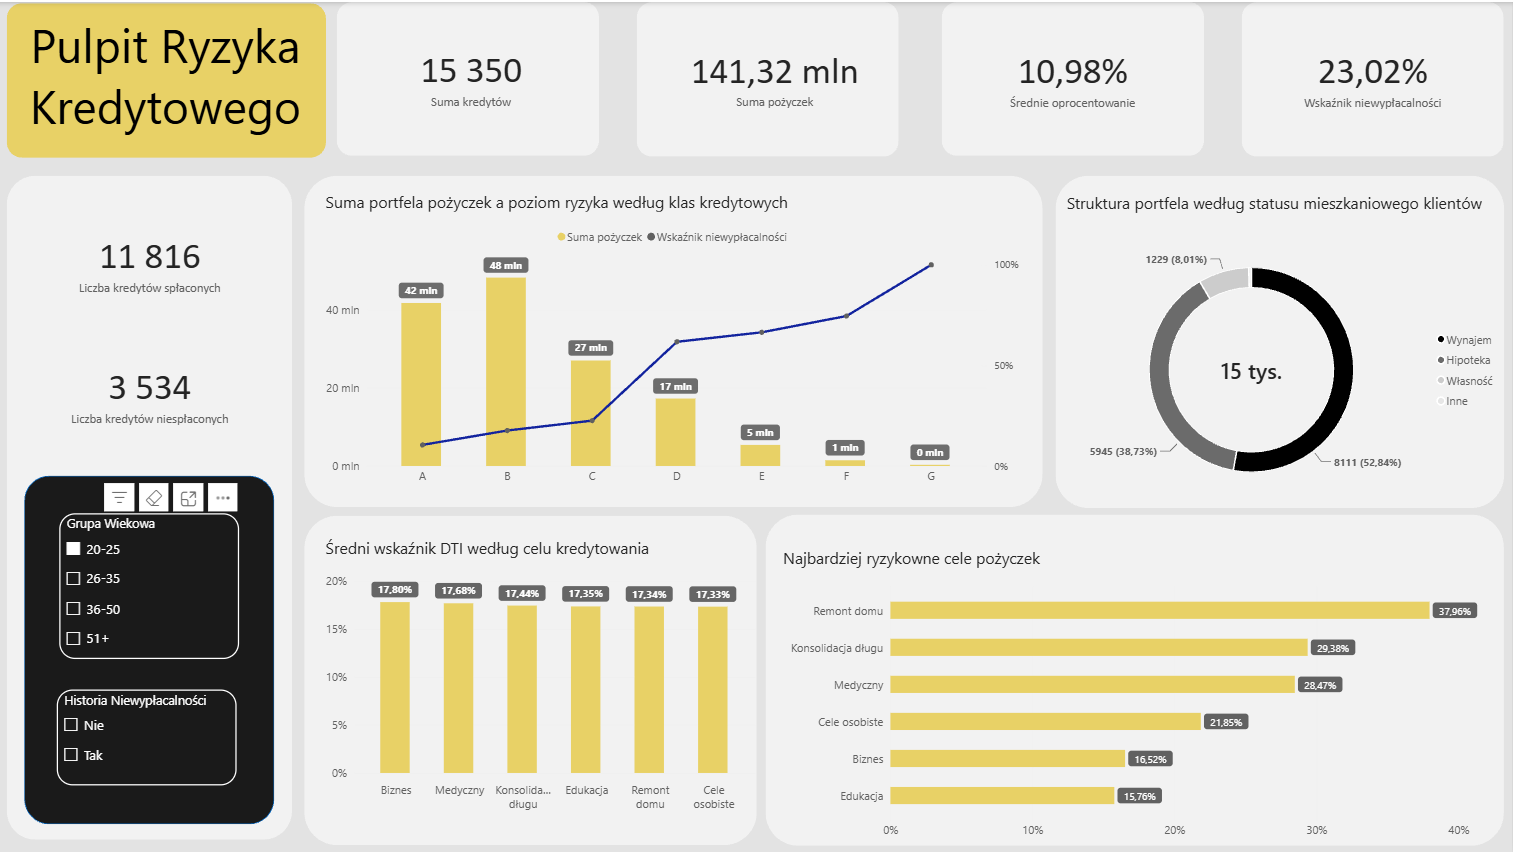

The page's visual inventory and layout, read from the dashboard file:
{"tool":"powerbi","page":{"name":"Pulpit ryzyka kredytowego","canvas":[1920,1080],"ordinal":0},"visuals":[{"type":"shape","box":[11.2,1.9,404.6,195.8],"z":0},{"type":"shape","box":[387.5,651.2,573.8,417.5],"z":1000},{"type":"shape","box":[972.4,649.2,936,420],"z":2000},{"type":"shape","box":[388,220,936,420],"z":3000},{"type":"shape","box":[1340,220,568.8,421.2],"z":4000},{"type":"shape","box":[1576,0,332,196],"z":5000},{"type":"shape","box":[1196,0,332.5,195],"z":6000},{"type":"shape","box":[810,0,332,196],"z":7000},{"type":"shape","box":[430,0,332.5,195],"z":8000},{"type":"shape","title":"k1","box":[11.7,220,361.7,841.7],"z":9000},{"type":"shape","title":"k2","box":[33.6,600.4,317,441.9],"z":10000},{"type":"cardVisual","fields":{"Data":["credit_risk_dataset_cleaned.Suma Pożyczek"]},"box":[856,28,258,138],"z":11000},{"type":"cardVisual","fields":{"Data":["credit_risk_dataset_cleaned.Liczba Kredytów 1"]},"box":[470,27.5,258,140],"z":12000},{"type":"cardVisual","fields":{"Data":["credit_risk_dataset_cleaned.Wskaźnik Niewypłacalności (%)"]},"box":[1614,28,256,140],"z":13000},{"type":"cardVisual","fields":{"Data":["credit_risk_dataset_cleaned.Średnie Oprocentowanie (%)"]},"box":[1234,28,256,140],"z":14000},{"type":"slicer","fields":{"Values":["credit_risk_dataset_cleaned.Grupa Wiekowa"]},"box":[77.2,648.4,228.3,185],"z":15000},{"type":"lineStackedColumnComboChart","title":"Suma portfela pożyczek a poziom ryzyka według klas kredytowych","fields":{"Category":["credit_risk_dataset_cleaned.Klasa Kredytowa"],"Y":["credit_risk_dataset_cleaned.Suma Pożyczek"],"Y2":["credit_risk_dataset_cleaned.Wskaźnik Niewypłacalności (%)"]},"box":[399.4,225.8,914.7,407.2],"z":16000},{"type":"barChart","title":"Najbardziej ryzykowne cele pożyczek","fields":{"Category":["credit_risk_dataset_cleaned.Cel Pożyczki"],"Series":["credit_risk_dataset_cleaned.Cel Pożyczki"],"Y":["credit_risk_dataset_cleaned.Wskaźnik Niewypłacalności (%)"]},"box":[978.5,676.7,922.4,403.3],"z":17000},{"type":"donutChart","title":"Struktura portfela według statusu mieszkaniowego klientów","fields":{"Category":["credit_risk_dataset_cleaned.Status Mieszkaniowy"],"Y":["credit_risk_dataset_cleaned.Liczba Kredytów"]},"box":[1339.5,226.7,580.8,438],"z":18000},{"type":"slicer","fields":{"Values":["credit_risk_dataset_cleaned.Historia Niewypłacalności"]},"box":[75.3,872.2,228.3,121.7],"z":19000},{"type":"textbox","box":[15,15,396,182],"z":20000},{"type":"clusteredColumnChart","title":"Średni wskaźnik DTI według celu kredytowania","fields":{"Category":["credit_risk_dataset_cleaned.Cel Pożyczki"],"Y":["Avg(credit_risk_dataset_cleaned.Udział Pożyczki w Dochodzie (%))"]},"box":[399.4,663.8,576.7,380],"z":21000},{"type":"cardVisual","fields":{"Data":["credit_risk_dataset_cleaned.Liczba Niespłaconych 1"]},"box":[63.4,428.8,258,140],"z":22000},{"type":"cardVisual","fields":{"Data":["credit_risk_dataset_cleaned.Liczba Spłaconych 1"]},"box":[63.4,262.9,258,140],"z":23000}]}

Visuals, with their boxes in screenshot pixels (x1, y1, x2, y2), scaled from the page's 1920x1080 canvas onto the 1513x852 screenshot:
shape: bbox=(9, 1, 328, 156)
shape: bbox=(305, 514, 758, 843)
shape: bbox=(766, 512, 1504, 843)
shape: bbox=(306, 174, 1043, 505)
shape: bbox=(1056, 174, 1504, 506)
shape: bbox=(1242, 0, 1504, 155)
shape: bbox=(942, 0, 1204, 154)
shape: bbox=(638, 0, 900, 155)
shape: bbox=(339, 0, 601, 154)
"k1" shape: bbox=(9, 174, 294, 838)
"k2" shape: bbox=(26, 474, 276, 822)
cardVisual - credit_risk_dataset_cleaned.Suma Pożyczek: bbox=(675, 22, 878, 131)
cardVisual - credit_risk_dataset_cleaned.Liczba Kredytów 1: bbox=(370, 22, 574, 132)
cardVisual - credit_risk_dataset_cleaned.Wskaźnik Niewypłacalności (%): bbox=(1272, 22, 1474, 133)
cardVisual - credit_risk_dataset_cleaned.Średnie Oprocentowanie (%): bbox=(972, 22, 1174, 133)
slicer - credit_risk_dataset_cleaned.Grupa Wiekowa: bbox=(61, 512, 241, 657)
"Suma portfela pożyczek a poziom ryzyka według klas kredytowych" lineStackedColumnComboChart: bbox=(315, 178, 1036, 499)
"Najbardziej ryzykowne cele pożyczek" barChart: bbox=(771, 534, 1498, 851)
"Struktura portfela według statusu mieszkaniowego klientów" donutChart: bbox=(1056, 179, 1512, 524)
slicer - credit_risk_dataset_cleaned.Historia Niewypłacalności: bbox=(59, 688, 239, 784)
textbox: bbox=(12, 12, 324, 155)
"Średni wskaźnik DTI według celu kredytowania" clusteredColumnChart: bbox=(315, 524, 769, 823)
cardVisual - credit_risk_dataset_cleaned.Liczba Niespłaconych 1: bbox=(50, 338, 253, 449)
cardVisual - credit_risk_dataset_cleaned.Liczba Spłaconych 1: bbox=(50, 207, 253, 318)
